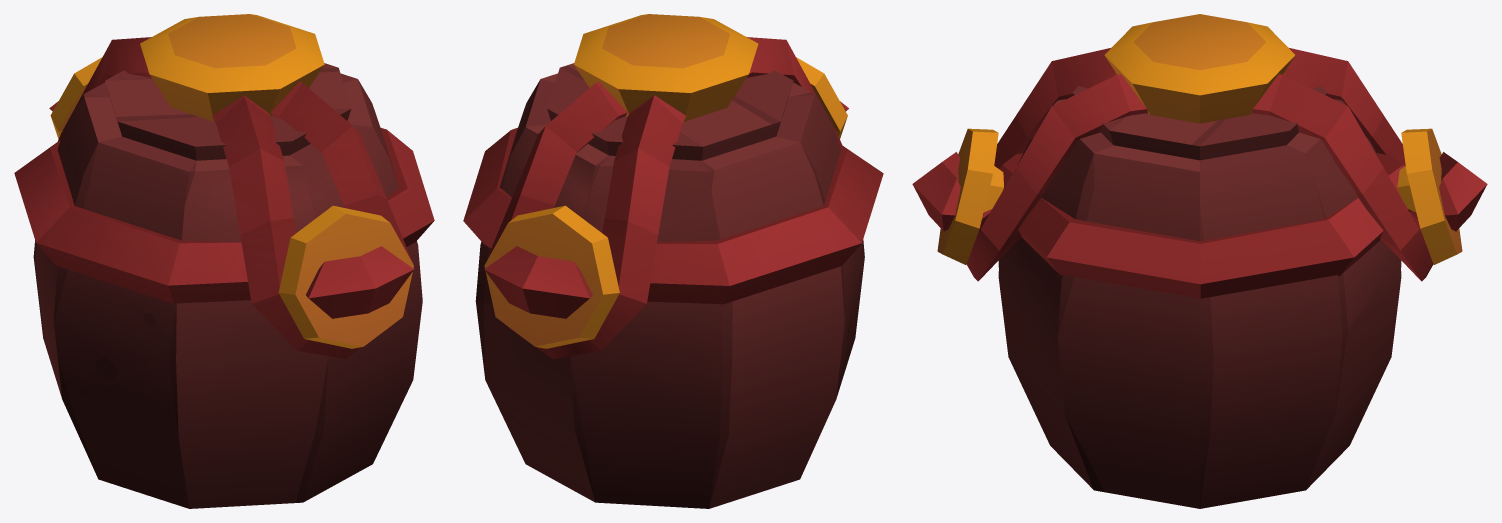
File: barrel_2.glb
3 views of the same model, side by side, from view 1: azimuth 30°, elevation 25°; view 2: azimuth 150°, elevation 25°; view 3: azimuth 270°, elevation 25° (orthographic).
Parts seen in each view (by area): view 1: barrel_2; view 2: barrel_2; view 3: barrel_2.
Boxes of the visible parts, x1,y1,x2,y2 form: barrel_2: (14, 14, 434, 508); barrel_2: (463, 14, 883, 508); barrel_2: (912, 14, 1487, 508).
Size of the model in its own units: 0.9672 by 0.9946 by 1.28.
1 material, 1 textured.
